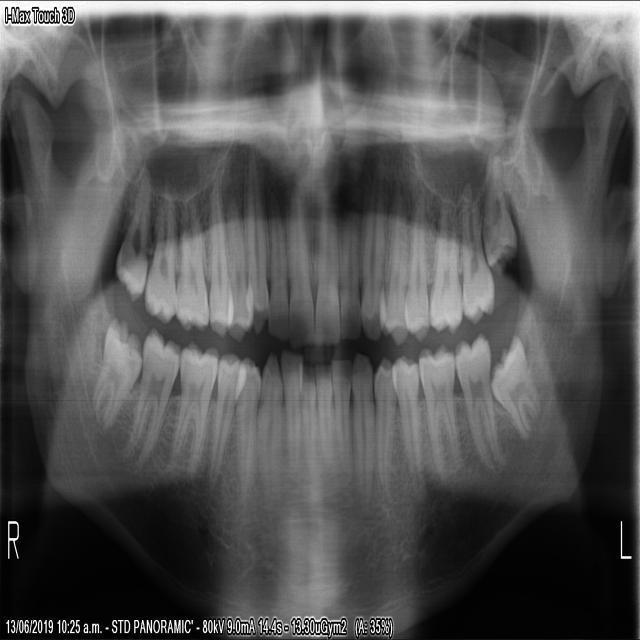LCD: (352, 347, 375, 515)
LCU: (360, 161, 385, 342)
LID: (312, 361, 338, 486), (329, 356, 352, 486)
LIU: (314, 182, 339, 346), (339, 182, 361, 343)
LMD: (453, 327, 506, 475), (416, 339, 463, 478), (491, 328, 541, 447)
LMU: (460, 175, 495, 330), (429, 189, 462, 336), (482, 147, 518, 277)
LPMD: (394, 350, 429, 503), (373, 354, 397, 506)
LPMU: (381, 189, 408, 346), (406, 189, 430, 343)
RCD: (254, 352, 281, 496)
RCU: (245, 138, 267, 336)
RID: (296, 361, 319, 488), (278, 346, 299, 478)
RIU: (286, 181, 313, 349), (265, 186, 286, 342)
RMD: (117, 322, 179, 473), (165, 336, 218, 487), (89, 311, 141, 437)
RMU: (141, 177, 175, 326), (172, 184, 206, 332)
RPMD: (204, 347, 236, 494), (231, 352, 259, 507)
RPMU: (224, 171, 248, 344), (207, 169, 225, 339)
